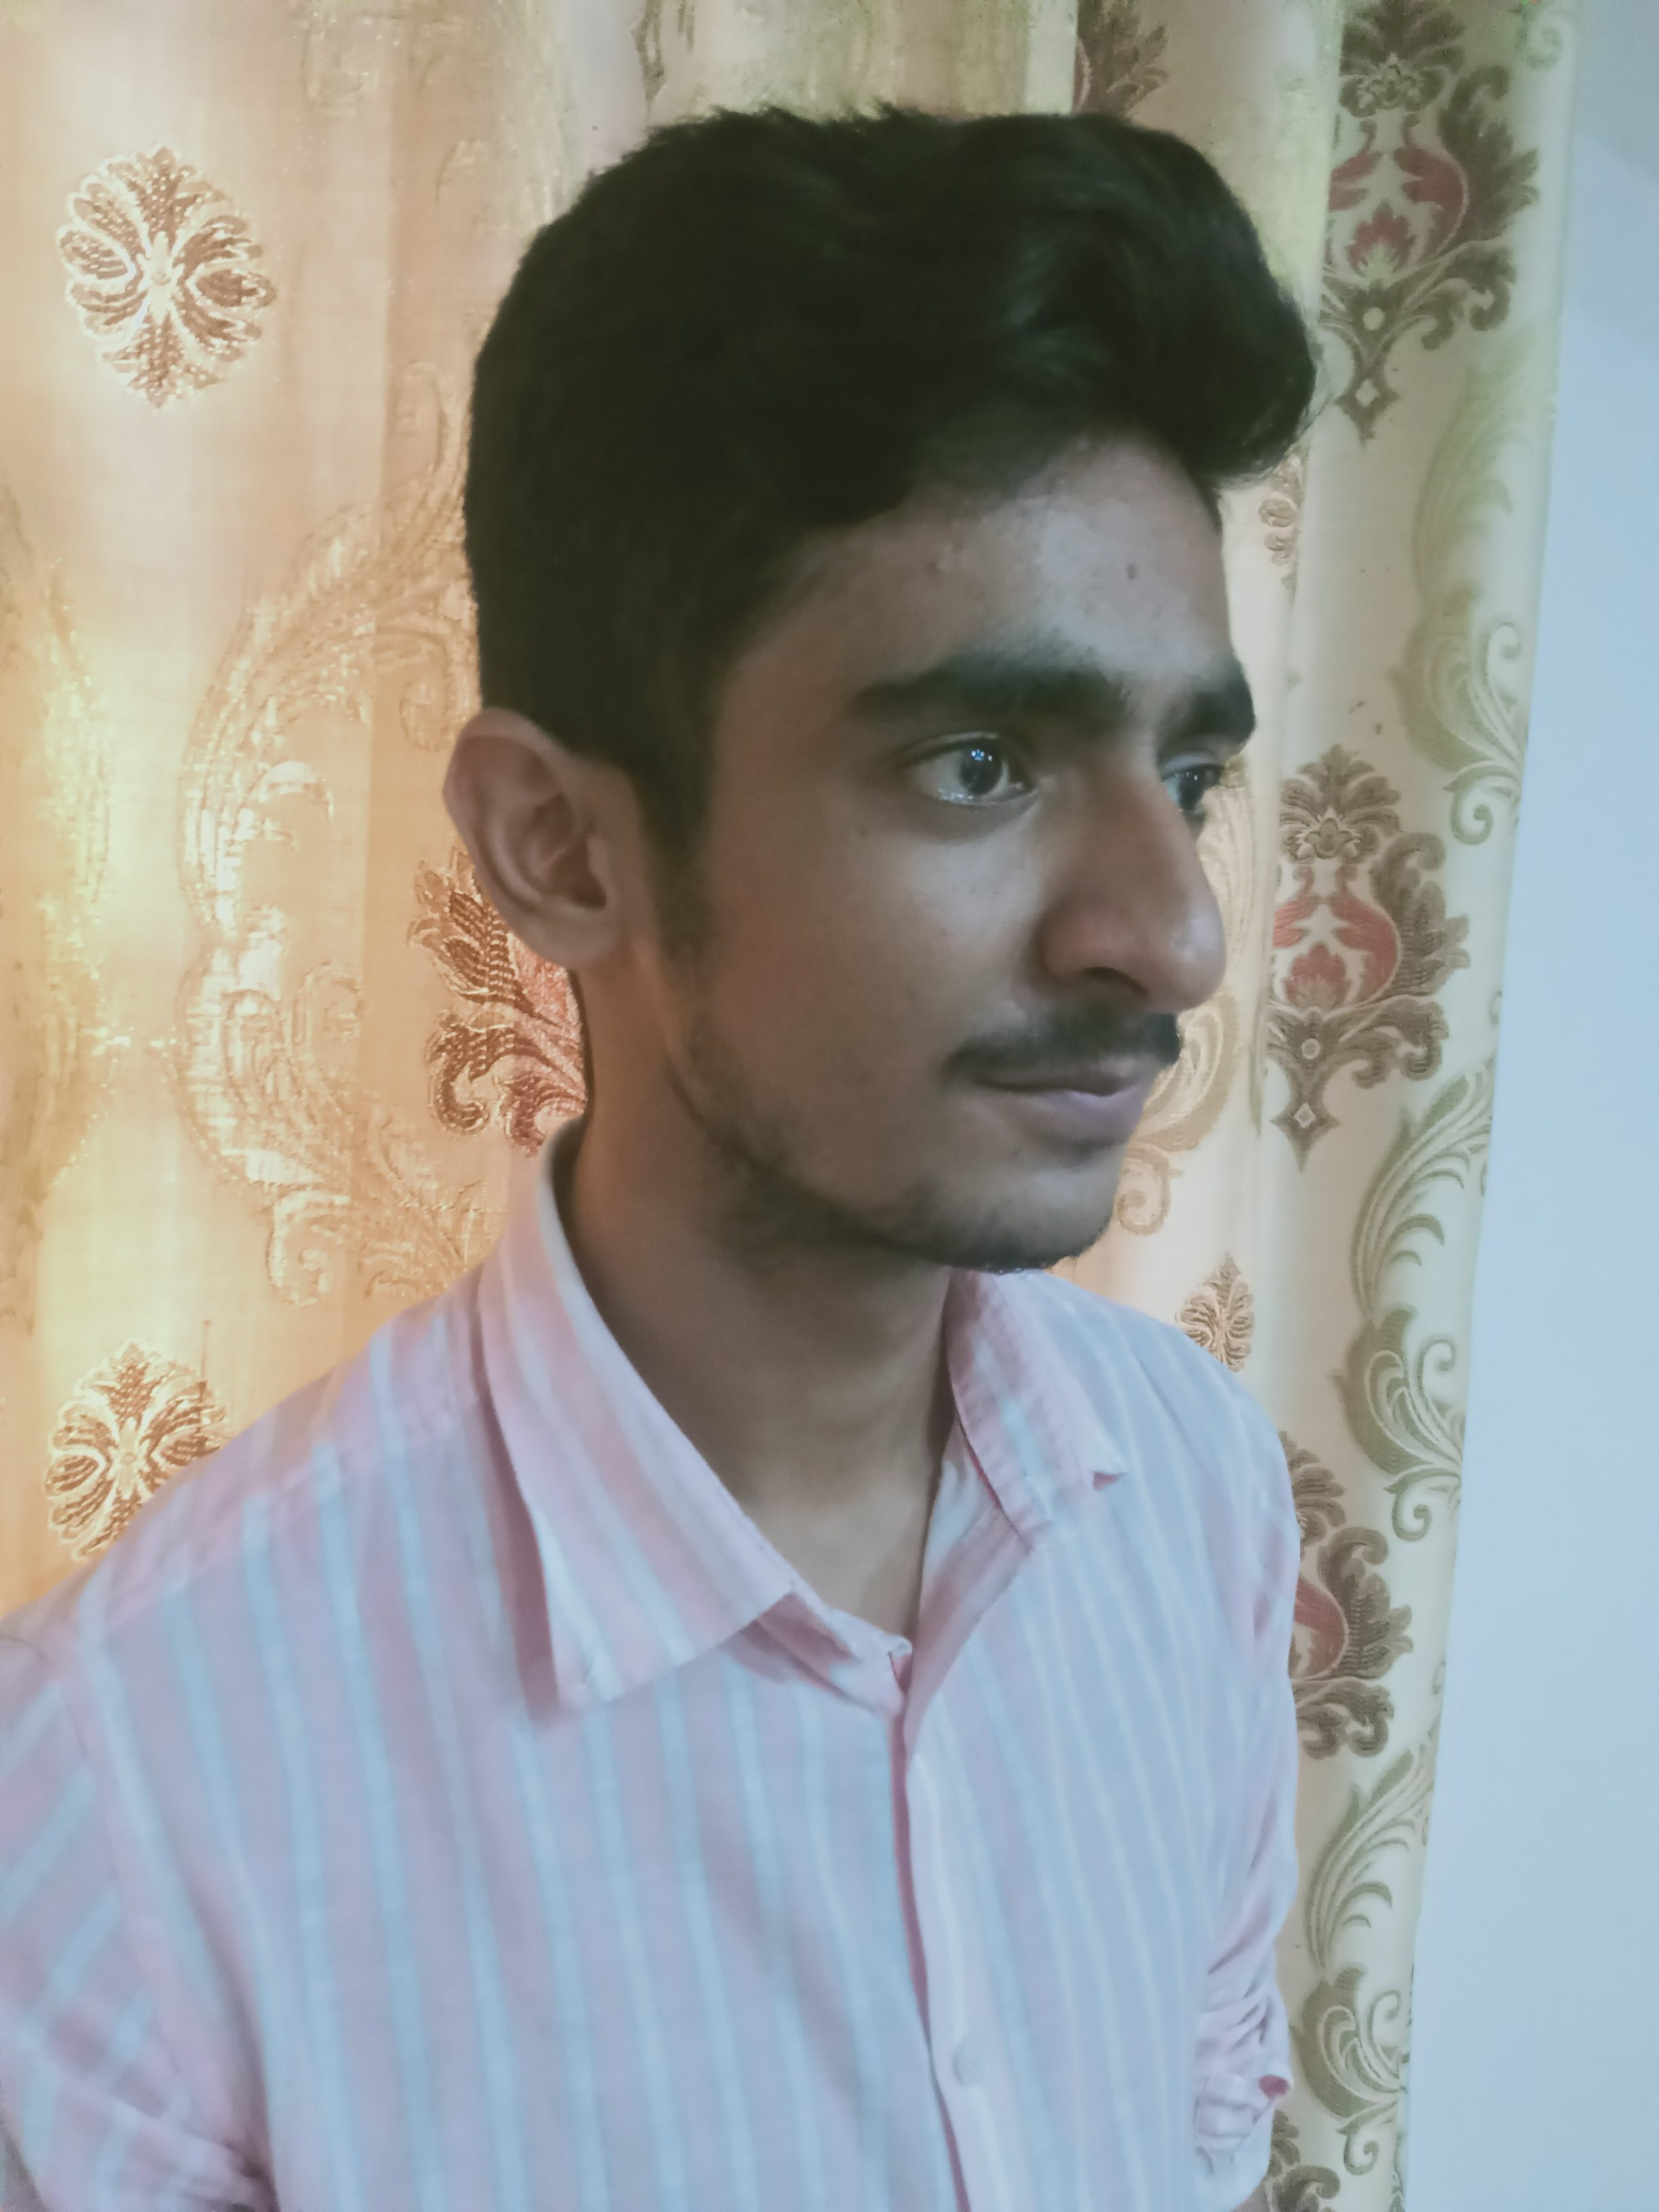NoMask: (741, 608, 1250, 1258)
